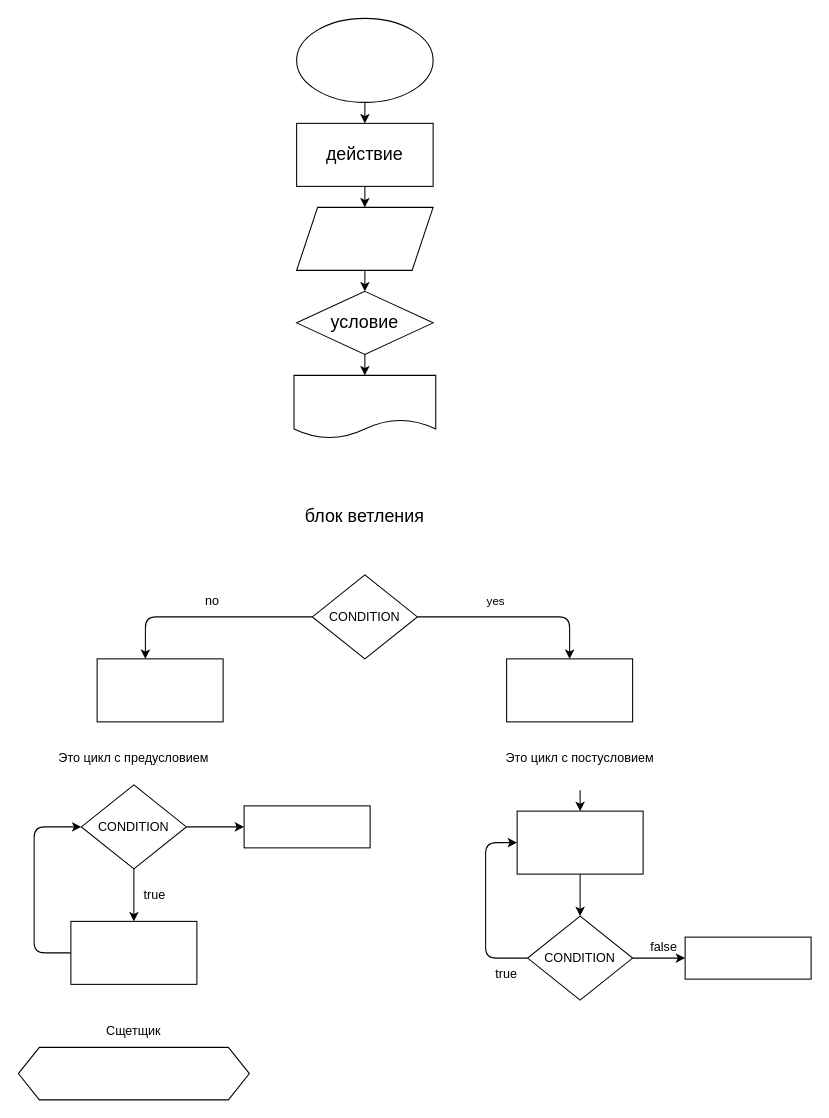
This 829x1118 diagram has some shape labels left out. The centre of each missing label's shape, as x and y in pixels:
ввод данных: the point at 364,238
вывод данных: the point at 364,406
начало конец алгоритма: the point at 364,59
